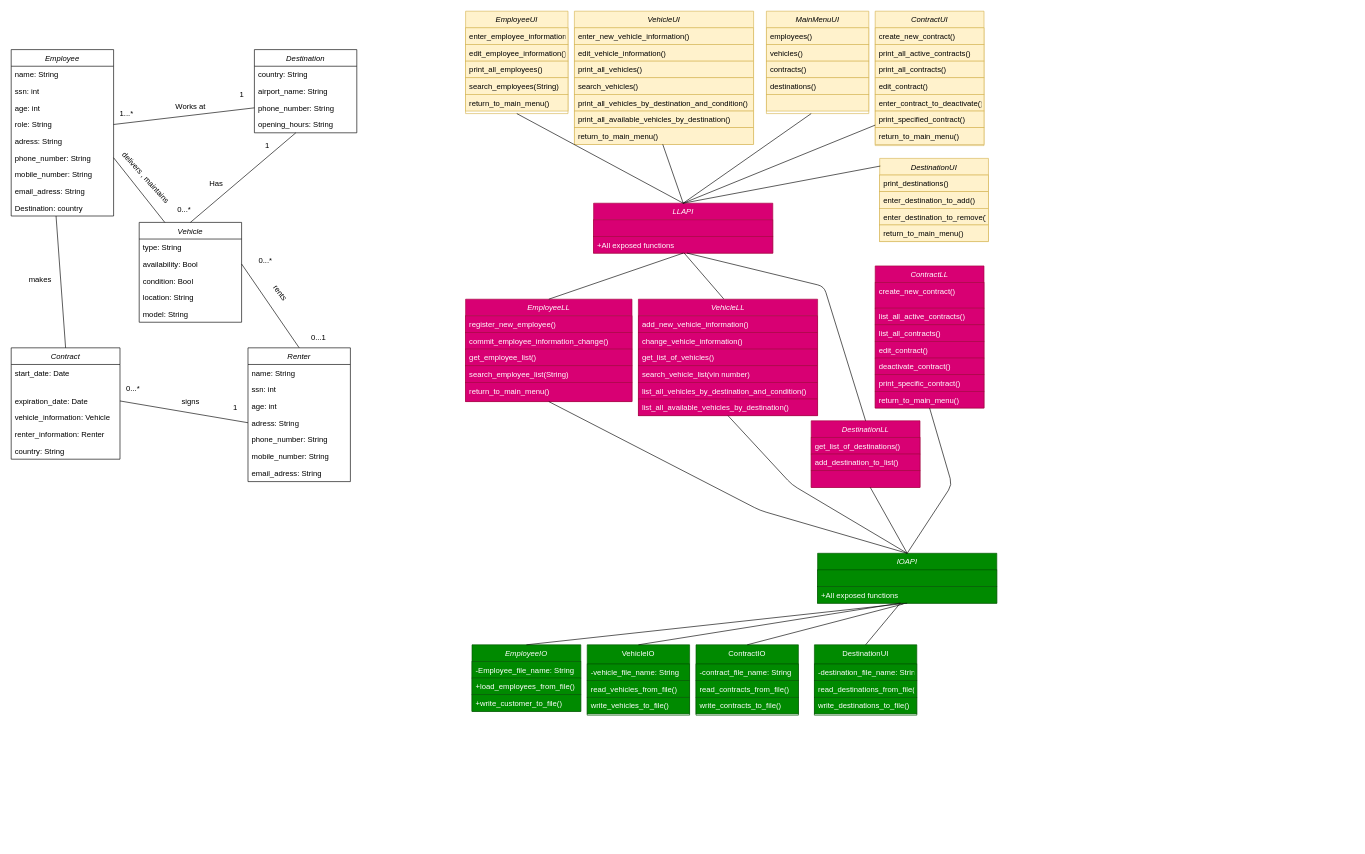
Some shapes in this 1365 by 854 pixel diagram are drawn without their labels. The shapes that lost their labels are listed below. From the top down, each one's centre as x and y in pixels, then its label:
the point at 817,102: quit_program()
the point at 683,227: -All LL classes
the point at 865,478: find_and_remove_destination()
the point at 907,578: -All IO CLASSES
